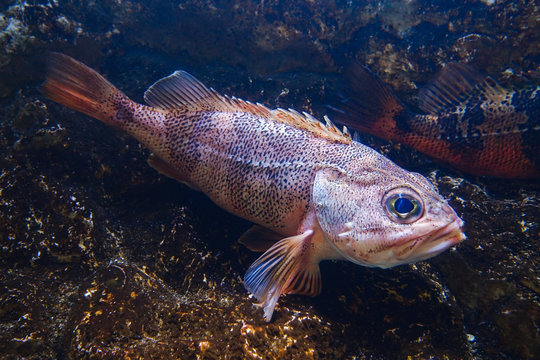Rock Fish: (19, 21, 488, 321)
